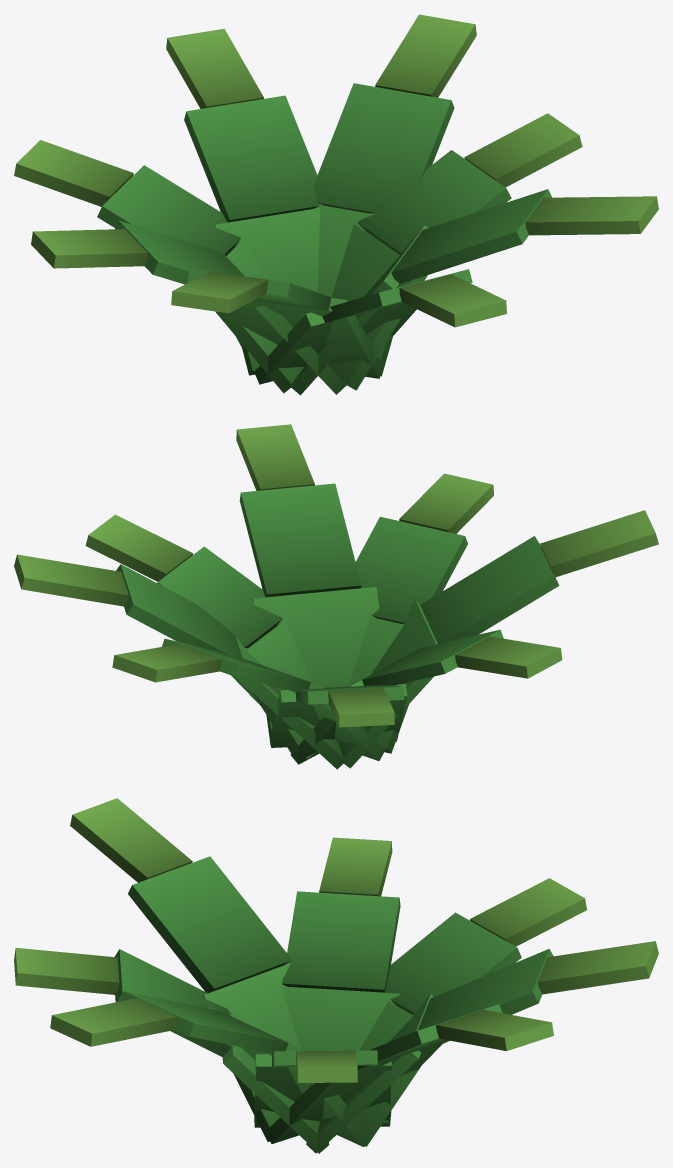
The model's file is B11_fern.glb.
The picture shows the model from 3 angles, top to bottom: view 1: azimuth 30°, elevation 25°; view 2: azimuth 150°, elevation 25°; view 3: azimuth 270°, elevation 25°; orthographic projection. The views are drawn at different scales.
Visible parts, largest first — view 1: B11_fern; view 2: B11_fern; view 3: B11_fern.
Boxes of the visible parts, box(x1,y1,x2,y2) form: B11_fern: box(14, 14, 658, 395); B11_fern: box(14, 424, 658, 769); B11_fern: box(14, 798, 658, 1153).
Size of the model in its own units: 1.45 by 0.5784 by 1.62.
